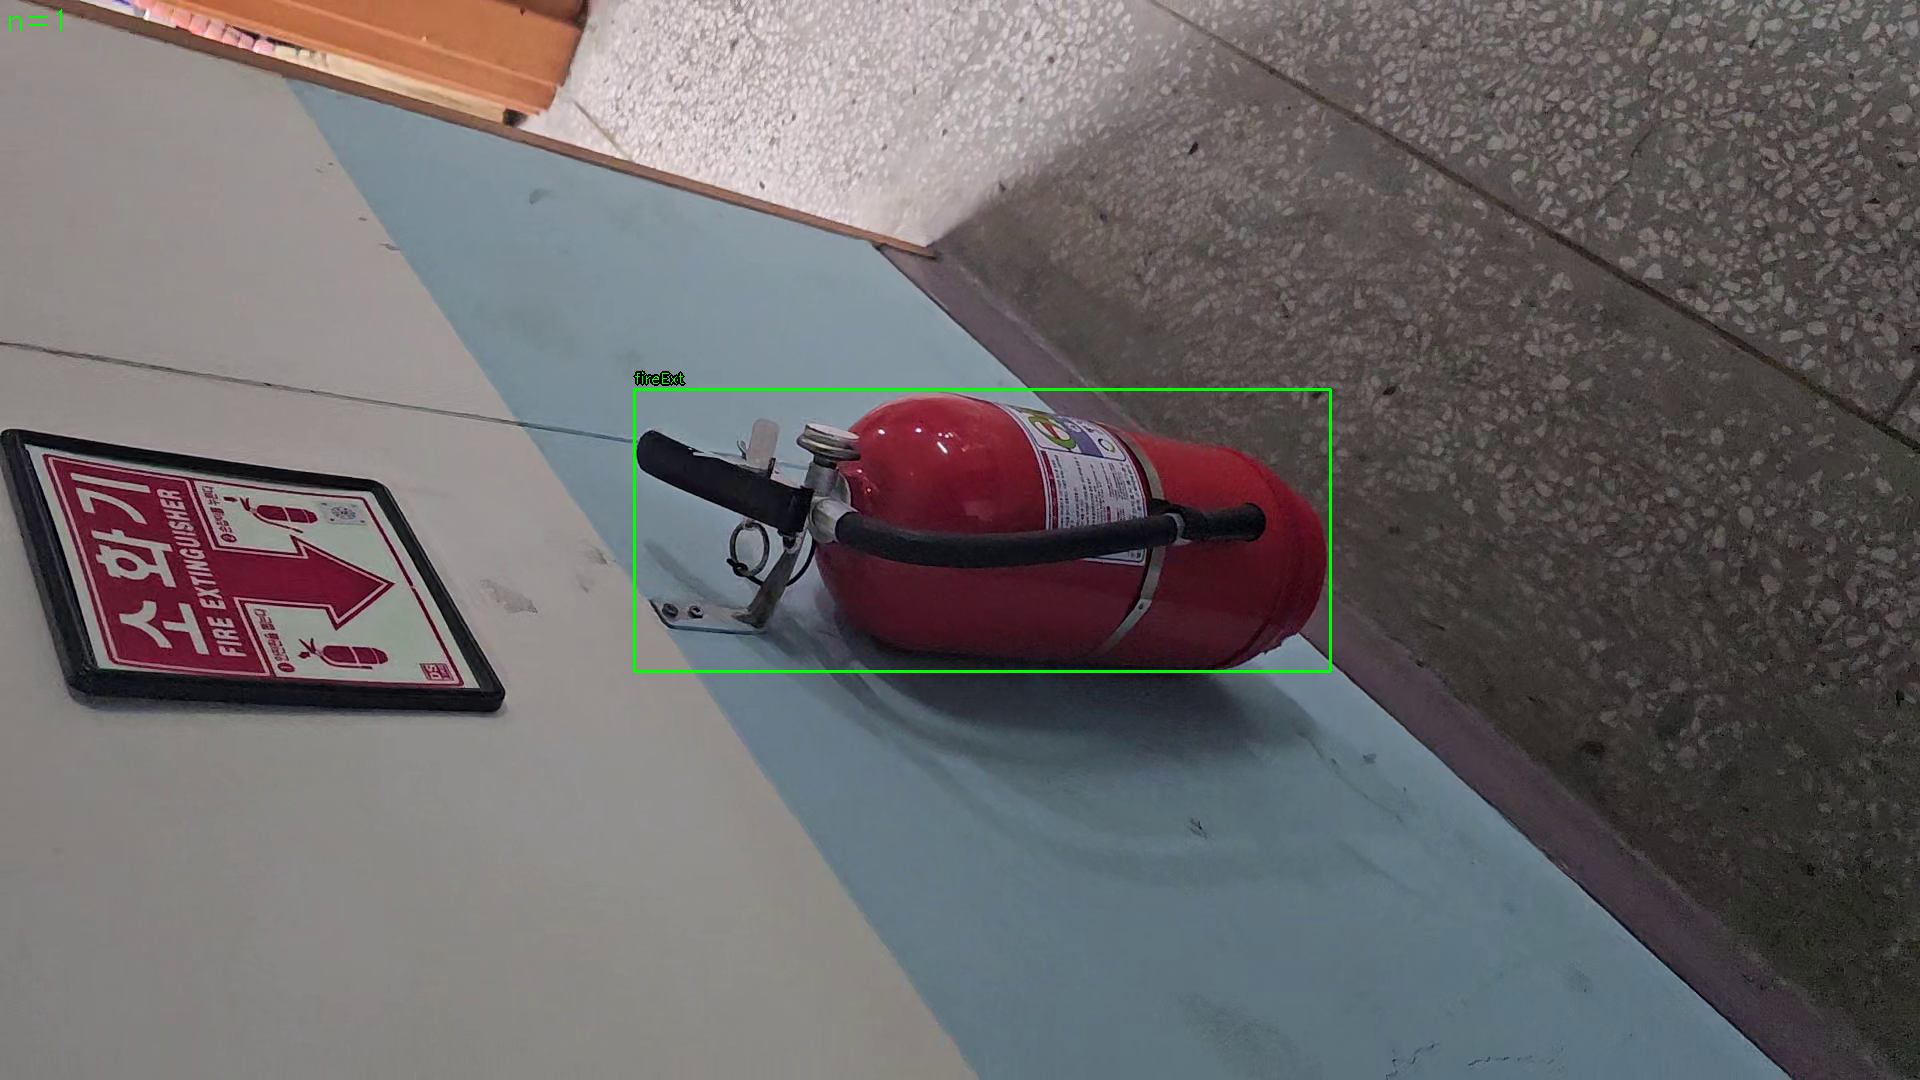lane: (634, 389, 1331, 673)
